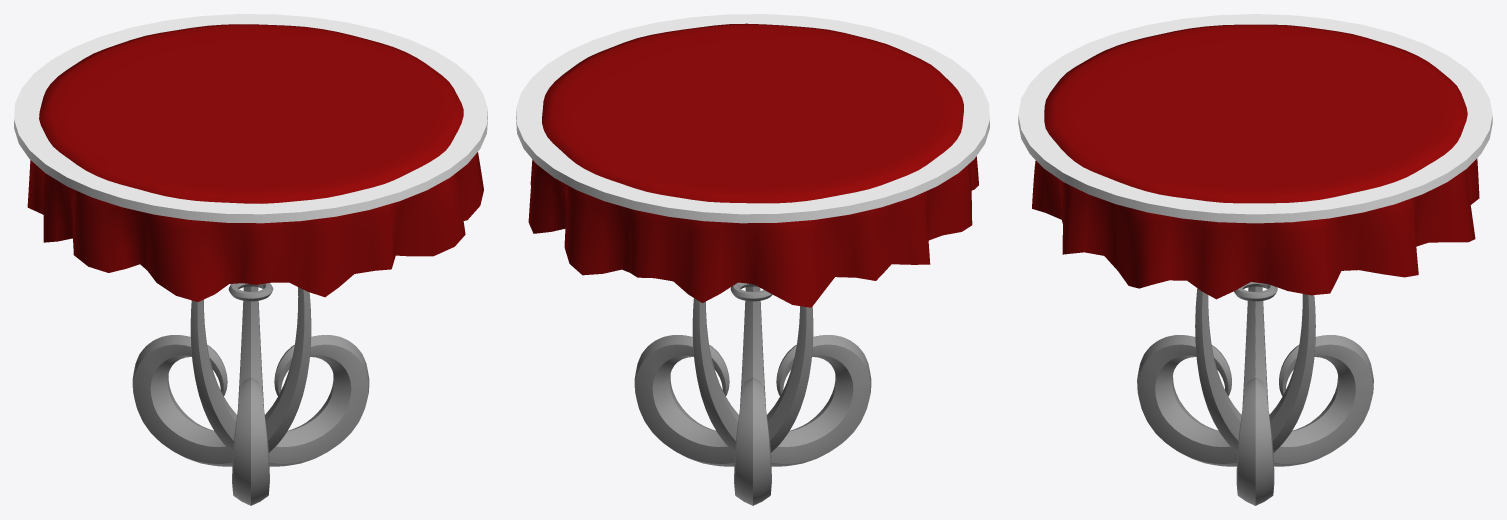
The model's file is curly_table.obj.
3 renders of one model, left to right at view 1: azimuth 30°, elevation 25°; view 2: azimuth 150°, elevation 25°; view 3: azimuth 270°, elevation 25°, orthographic.
Visible parts, largest first — view 1: Tablecloth, Simulation, Leg02, Leg01, Leg03, Joining Ri; view 2: Tablecloth, Simulation, Leg03, Leg01, Leg02; view 3: Tablecloth, Simulation, Leg02, Leg03, Leg01, Joining Ri.
Part boxes in pixels (left/top/right/bottom): Tablecloth: left=27, top=24, right=483, bottom=301; Simulation: left=14, top=14, right=487, bottom=223; Leg02: left=132, top=287, right=311, bottom=466; Leg01: left=190, top=299, right=369, bottom=466; Leg03: left=232, top=286, right=269, bottom=505; Joining Ri: left=228, top=283, right=273, bottom=301; Tablecloth: left=528, top=23, right=978, bottom=307; Simulation: left=516, top=14, right=989, bottom=223; Leg03: left=692, top=298, right=871, bottom=466; Leg01: left=634, top=306, right=813, bottom=466; Leg02: left=734, top=286, right=771, bottom=505; Tablecloth: left=1032, top=24, right=1479, bottom=299; Simulation: left=1018, top=14, right=1492, bottom=223; Leg02: left=1195, top=288, right=1373, bottom=466; Leg03: left=1137, top=294, right=1315, bottom=466; Leg01: left=1236, top=286, right=1274, bottom=505; Joining Ri: left=1234, top=282, right=1277, bottom=301.
Size of what is drawn, in the model's own units: 94.49 by 80.31 by 94.49.
